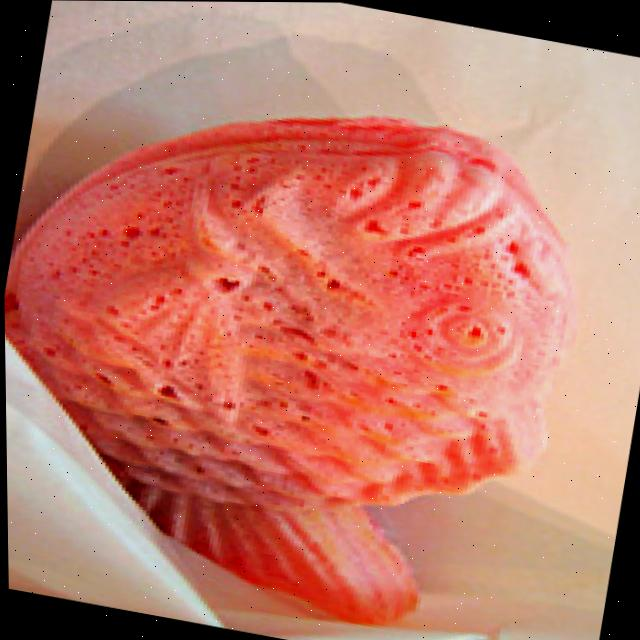熟制海鲜: (1, 51, 629, 640)
